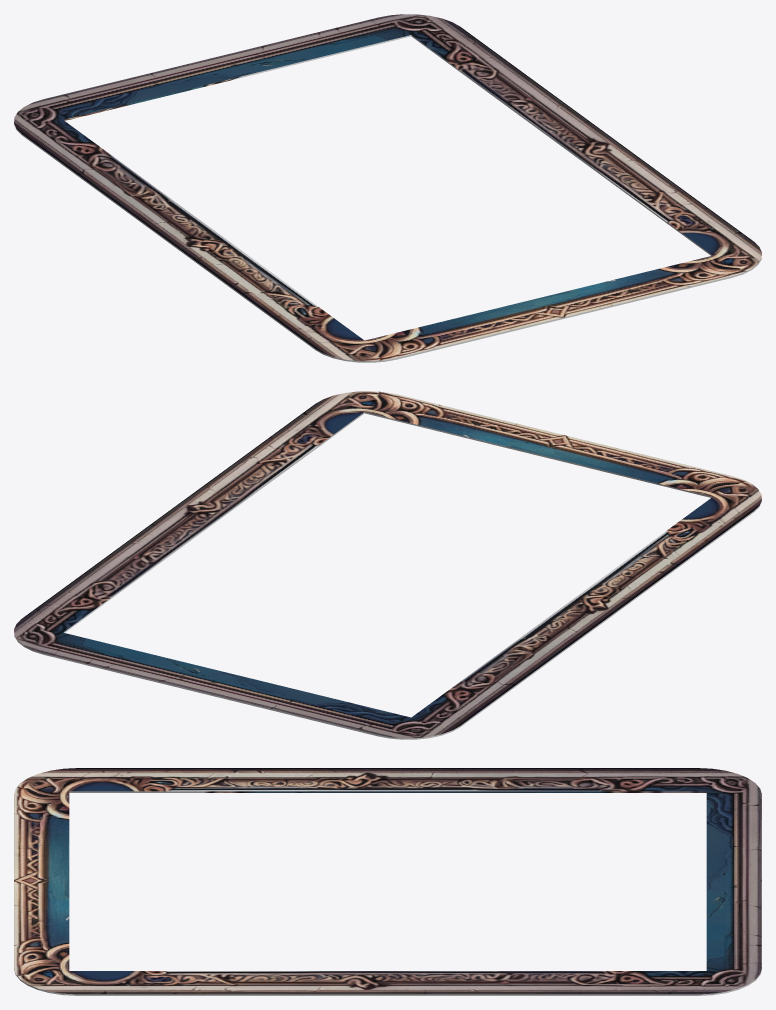
The model's file is card_mark.fbx.
3 renders of one model, top to bottom at view 1: azimuth 30°, elevation 25°; view 2: azimuth 150°, elevation 25°; view 3: azimuth 270°, elevation 25°, orthographic. The views are drawn at different scales.
Parts seen in each view (by area): view 1: Cube; view 2: Cube; view 3: Cube.
Boxes of the visible parts, <box> form: Cube: <box>14,14,761,362</box>; Cube: <box>14,391,761,739</box>; Cube: <box>14,768,761,995</box>.
Bounding box in the file's own units: 126 × 0.4001 × 176.
